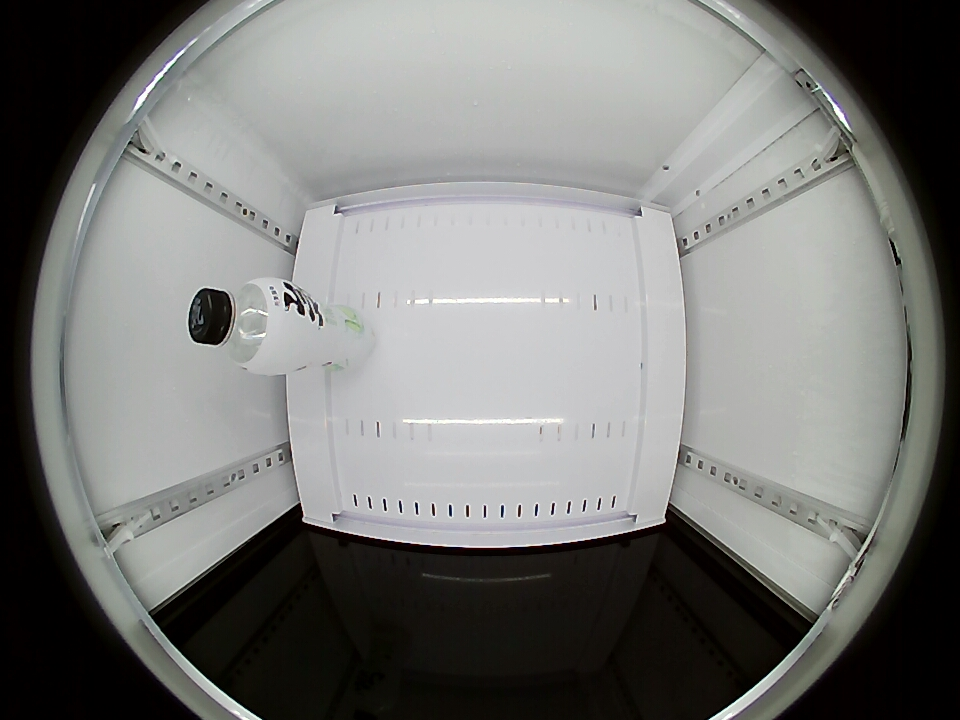yuanqishui: (188, 278, 297, 374)
